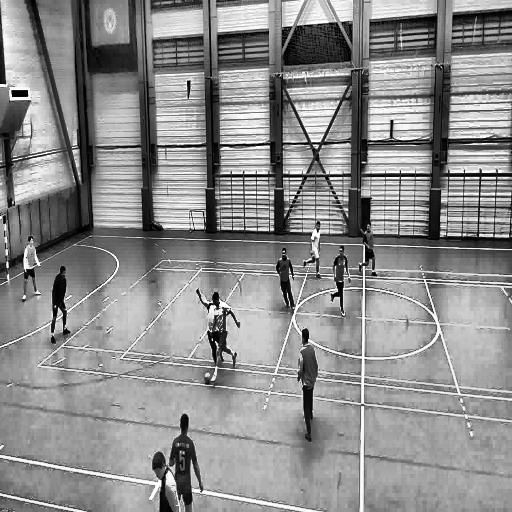ball: (203, 370, 211, 386)
player: (212, 292, 242, 390), (296, 327, 319, 446), (50, 264, 72, 347), (330, 244, 353, 318), (275, 246, 297, 318), (22, 234, 42, 302), (302, 219, 324, 279), (358, 221, 378, 279), (195, 287, 211, 349)
